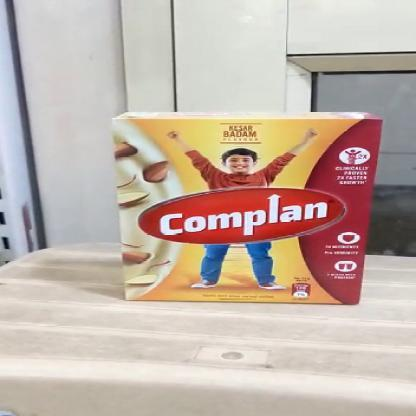Complan Kesar Badam: (101, 107, 392, 307)
